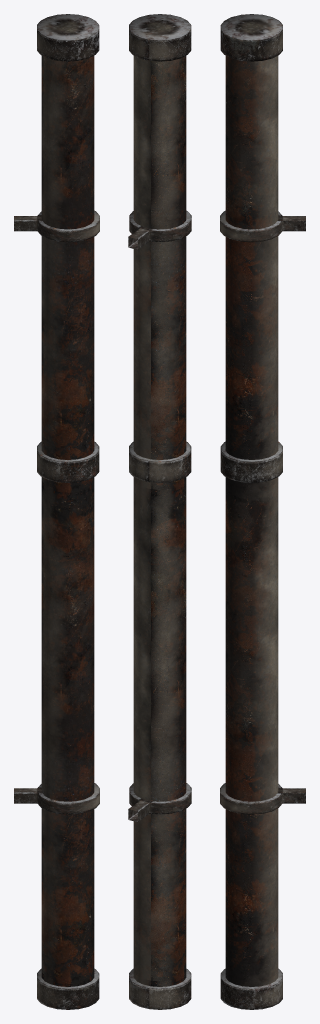
The model's file is SM_Pipe4m.FBX.
3 views of the same model, side by side, from view 1: azimuth 90°, elevation 25°; view 2: azimuth 150°, elevation 25°; view 3: azimuth 270°, elevation 25° (orthographic).
Parts seen in each view (by area): view 1: SM_Pipe4m; view 2: SM_Pipe4m; view 3: SM_Pipe4m.
Part boxes in pixels (x1,y1,x2,y2): SM_Pipe4m: (14, 14, 99, 1009); SM_Pipe4m: (128, 14, 191, 1009); SM_Pipe4m: (220, 14, 305, 1009).
Bounding box in the file's own units: 23.73 × 32.13 × 400.
